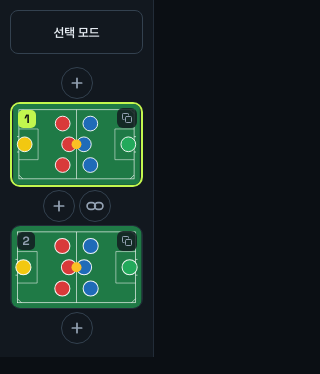
Scenario: 선택 모드 진입/이탈 › 진입하면 카드가 체크 가능(aria-pressed=false)해지고, 카운트·일괄 버튼이 나타난다
Click the button "선택 모드" at (76, 32), box [10,10,143,54]
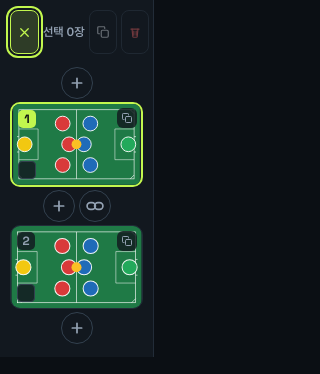
expect the text "선택 0장" is shown: met, box [43,25,85,39]
expect the button named "선택 복제" is shown: met, box [89,10,117,54]
expect the button named "선택 삭제" is shown: met, box [121,10,149,54]
